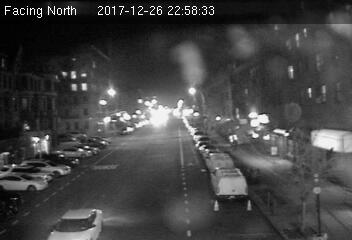truck: (211, 169, 249, 198)
